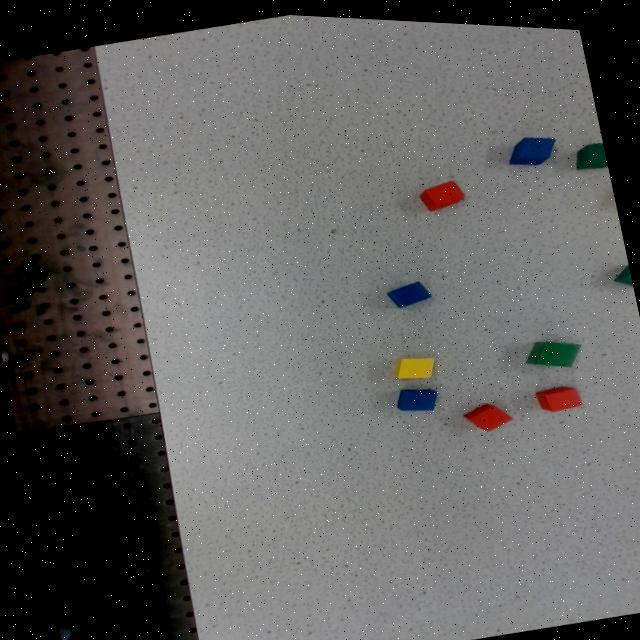blue_cube: (384, 274, 429, 306), (507, 131, 553, 160), (395, 385, 435, 407)
green_cube: (525, 333, 579, 363), (572, 135, 608, 164), (610, 257, 633, 284)
red_cube: (462, 391, 511, 434), (418, 170, 465, 212), (534, 377, 582, 409)
yellow_cube: (391, 351, 434, 374)
